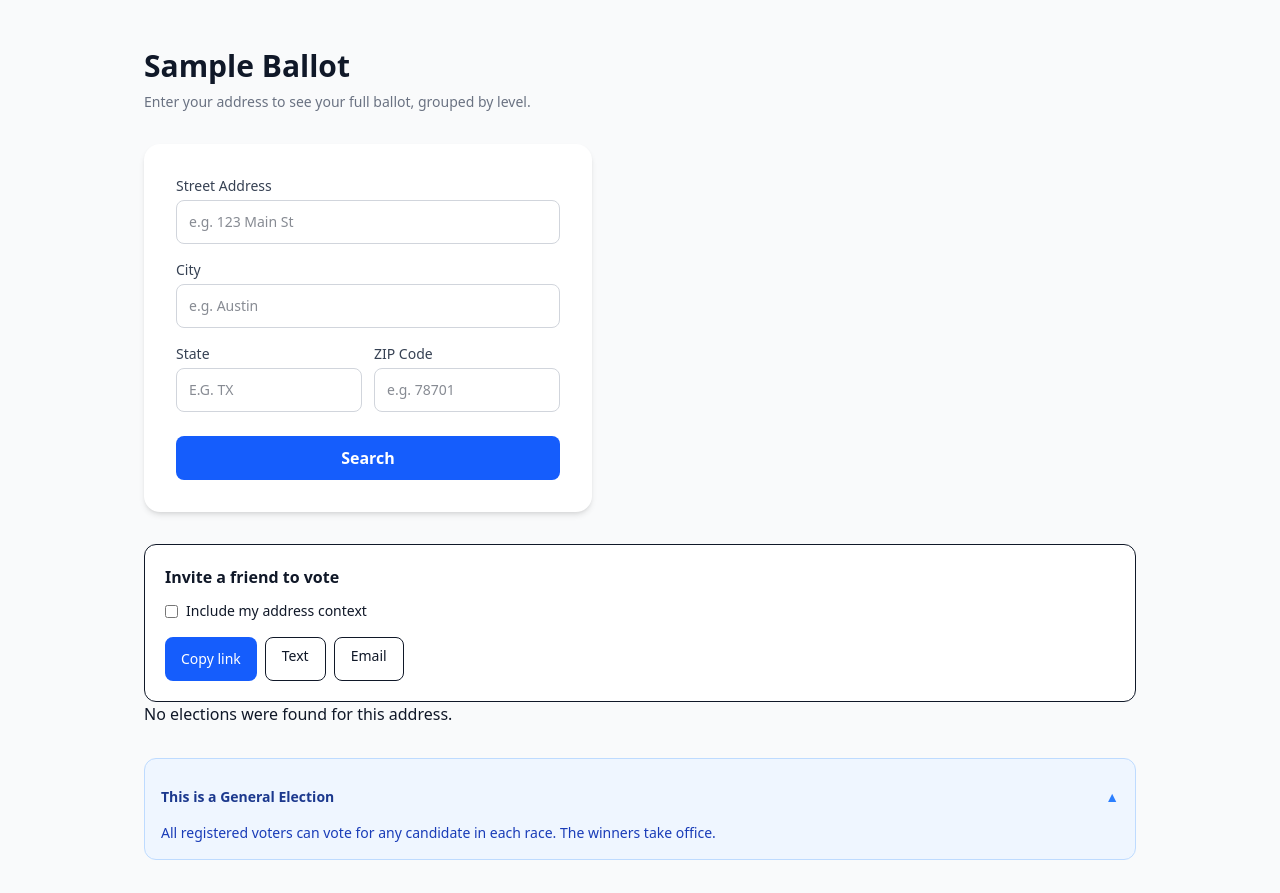
Test: BallotPage › collapsing the election type banner leaves the contests fully visible
The width and height of the screenshot is (1280, 893).
What coordinates should you click on to do the following:
click the button "This is a General Election ▲"
I would click on:
 (248, 796)
Its box is 161,775 -> 1119,819.
(page scrolled)
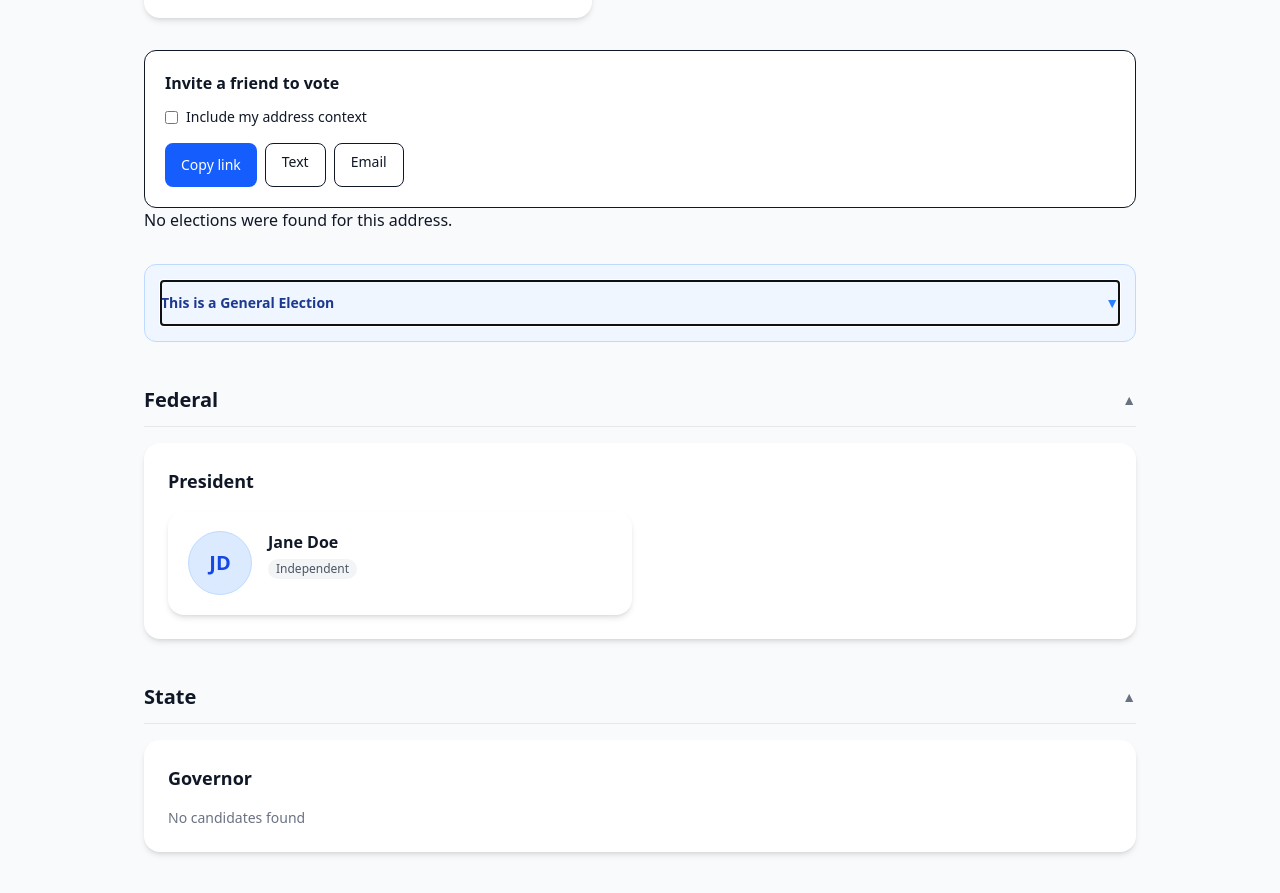
Check: the heading "Jane Doe" is shown, box 268,531 -> 338,553
Check: the button "This is a General Election ▼" is collapsed, box 161,281 -> 1119,325
